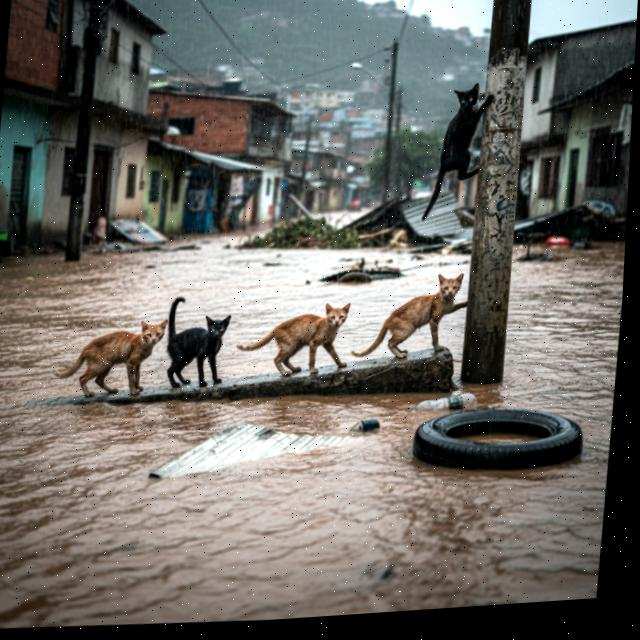cat: (414, 79, 505, 235), (229, 288, 358, 395), (350, 261, 472, 367), (152, 289, 243, 393), (60, 316, 163, 406)
